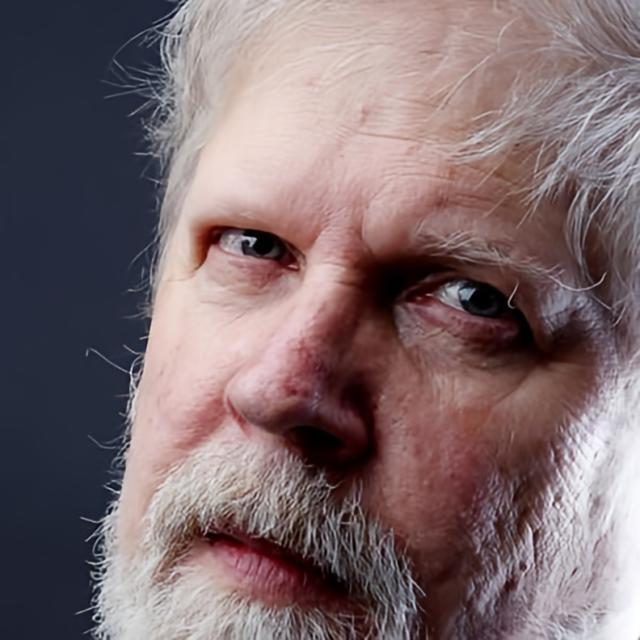anger: (148, 32, 614, 640)
